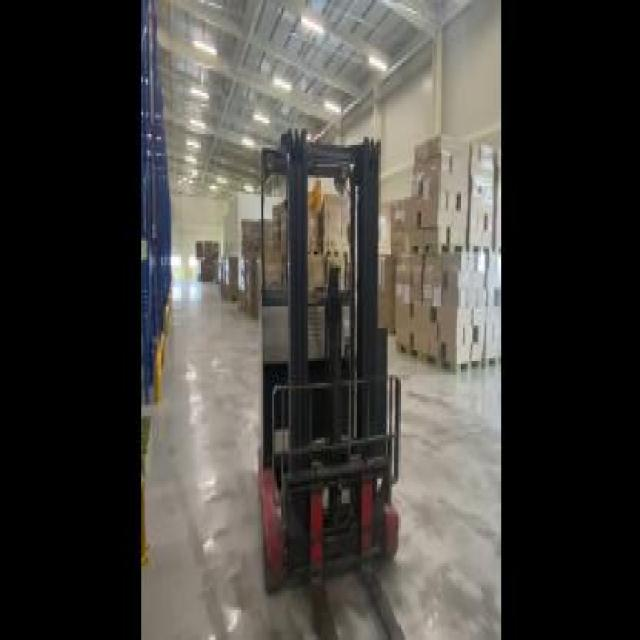box: (382, 140, 498, 366), (218, 202, 372, 334), (193, 236, 224, 284)
robot: (255, 137, 411, 637)
